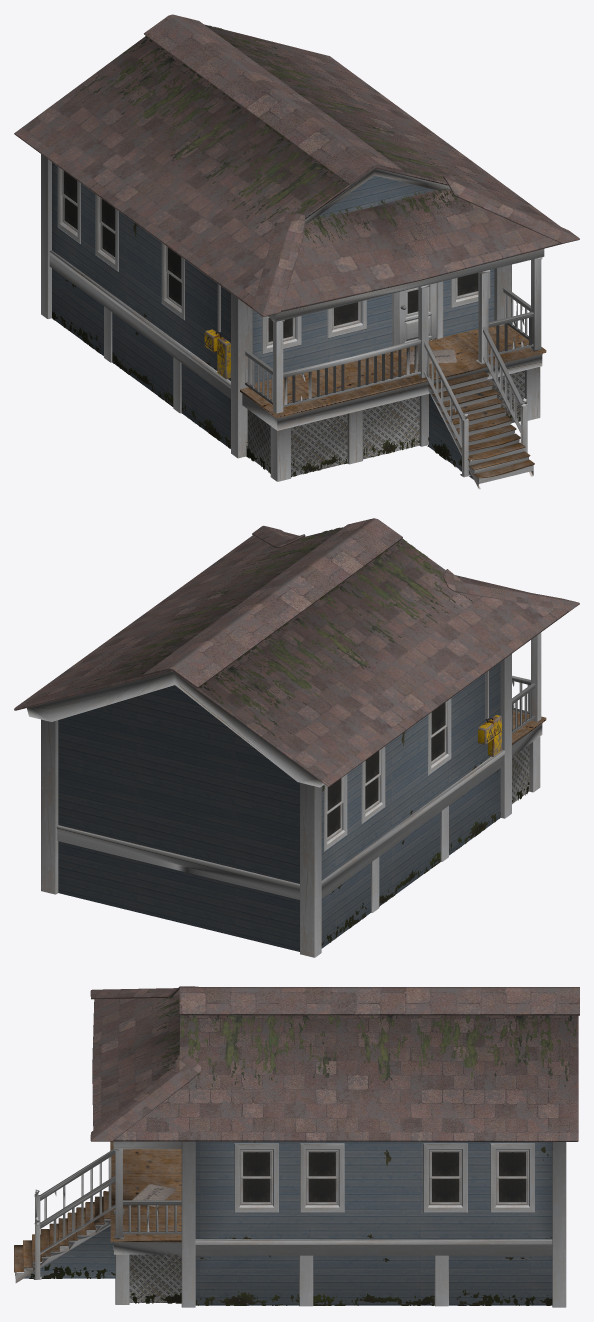
File: h_mobile.glb
3 views of the same model, one above another, from view 1: azimuth 30°, elevation 25°; view 2: azimuth 150°, elevation 25°; view 3: azimuth 270°, elevation 25° (orthographic). The views are drawn at different scales.
Visible parts, largest first — view 1: body|MHousRoof, body|MHousWood, body|MHouseWall, body|MHouseDecales, body|MHouseWindowsDoorProps, body|MHouseWoodFloor, body|MHouseWoodGrate; view 2: body|MHousRoof, body|MHouseWall, body|MHousWood, body|MHouseDecales, body|MHouseWindowsDoorProps, body|MHouseWoodGrate; view 3: body|MHousRoof, body|MHouseWall, body|MHousWood, body|MHouseWindowsDoorProps, body|MHouseDecales, body|MHouseWoodFloor, body|MHouseWoodGrate.
Boxes of the visible parts, bbox=[...] form: body|MHousRoof: bbox=[14, 14, 579, 316]; body|MHousWood: bbox=[41, 154, 544, 489]; body|MHouseWall: bbox=[52, 162, 494, 479]; body|MHouseDecales: bbox=[52, 25, 520, 477]; body|MHouseWindowsDoorProps: bbox=[57, 166, 490, 379]; body|MHouseWoodFloor: bbox=[240, 325, 546, 478]; body|MHouseWoodGrate: bbox=[247, 370, 524, 476]; body|MHousRoof: bbox=[14, 518, 579, 786]; body|MHouseWall: bbox=[58, 662, 500, 951]; body|MHousWood: bbox=[27, 632, 542, 957]; body|MHouseDecales: bbox=[75, 526, 529, 945]; body|MHouseWindowsDoorProps: bbox=[324, 670, 501, 851]; body|MHouseWoodGrate: bbox=[512, 745, 529, 803]; body|MHousRoof: bbox=[90, 986, 579, 1141]; body|MHouseWall: bbox=[24, 1141, 552, 1305]; body|MHousWood: bbox=[15, 1141, 566, 1307]; body|MHouseWindowsDoorProps: bbox=[132, 1143, 534, 1212]; body|MHouseDecales: bbox=[29, 996, 576, 1305]; body|MHouseWoodFloor: bbox=[14, 1141, 181, 1272]; body|MHouseWoodGrate: bbox=[129, 1254, 181, 1302].
Bounding box in the file's own units: 7.42 × 5.97 × 11.74.
Materials: 7 (7 with a texture image).
